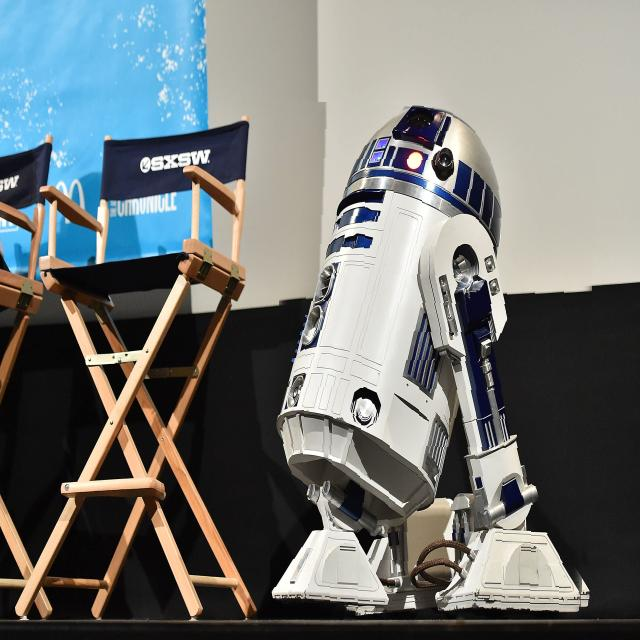r2-d2: (274, 103, 594, 617)
